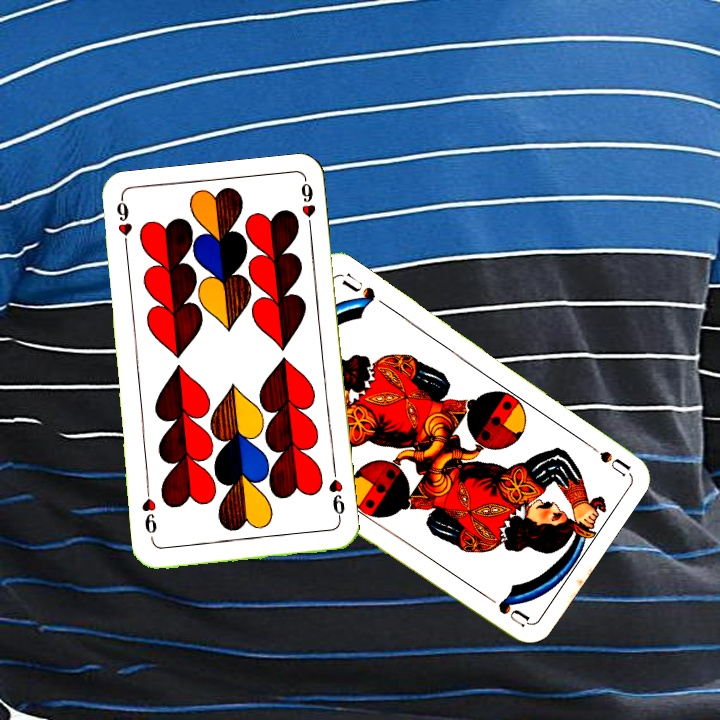H9: (324, 466, 348, 525), (112, 196, 134, 255)
SU: (577, 435, 631, 478)
